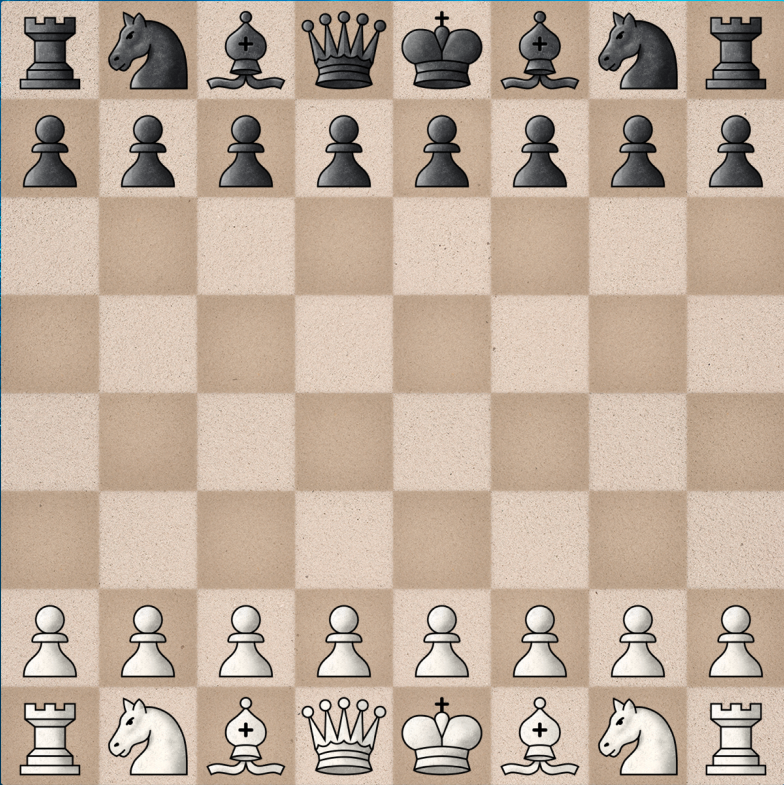white_pawn: (611, 604, 668, 676), (512, 605, 568, 676), (121, 606, 175, 679), (219, 604, 272, 677), (317, 604, 370, 677), (24, 605, 76, 677), (709, 605, 761, 677), (416, 605, 467, 676)
